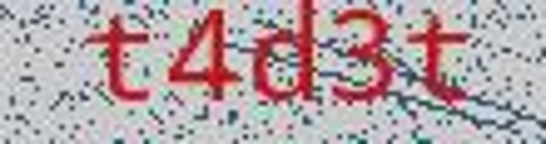3: (328, 2, 402, 113)
4: (163, 3, 244, 105)
d: (248, 2, 323, 114)
t: (71, 14, 157, 115), (405, 8, 485, 110)
